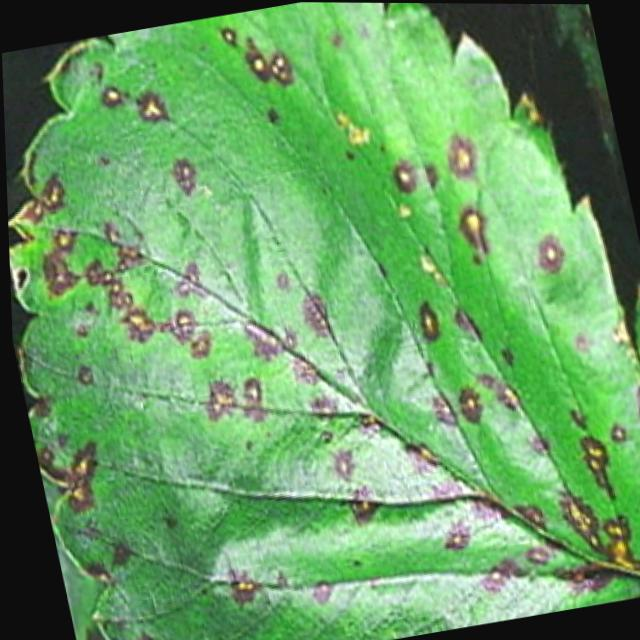Leaf Spot: (6, 2, 640, 640), (525, 3, 639, 282), (629, 277, 640, 374)
